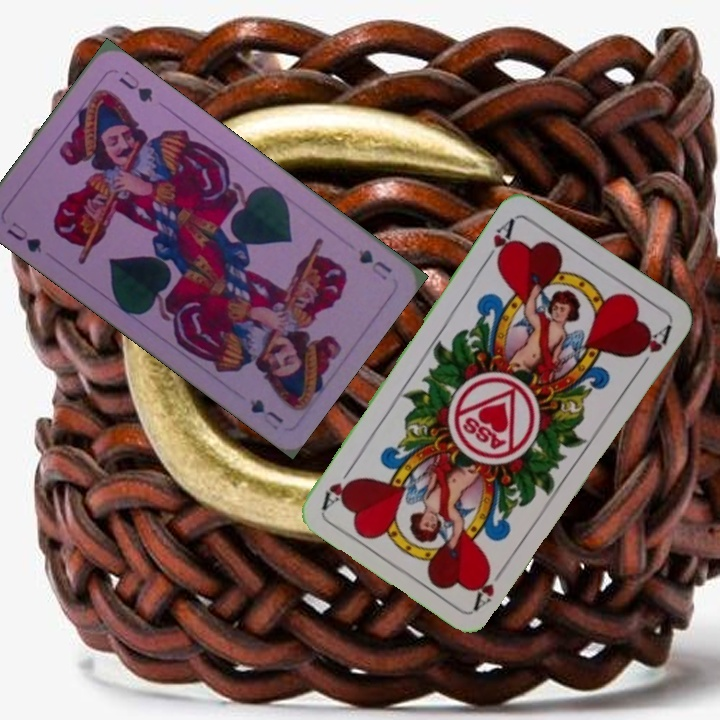GU: (3, 218, 45, 256), (354, 245, 395, 283)
HA: (470, 559, 510, 612), (479, 214, 517, 268)
